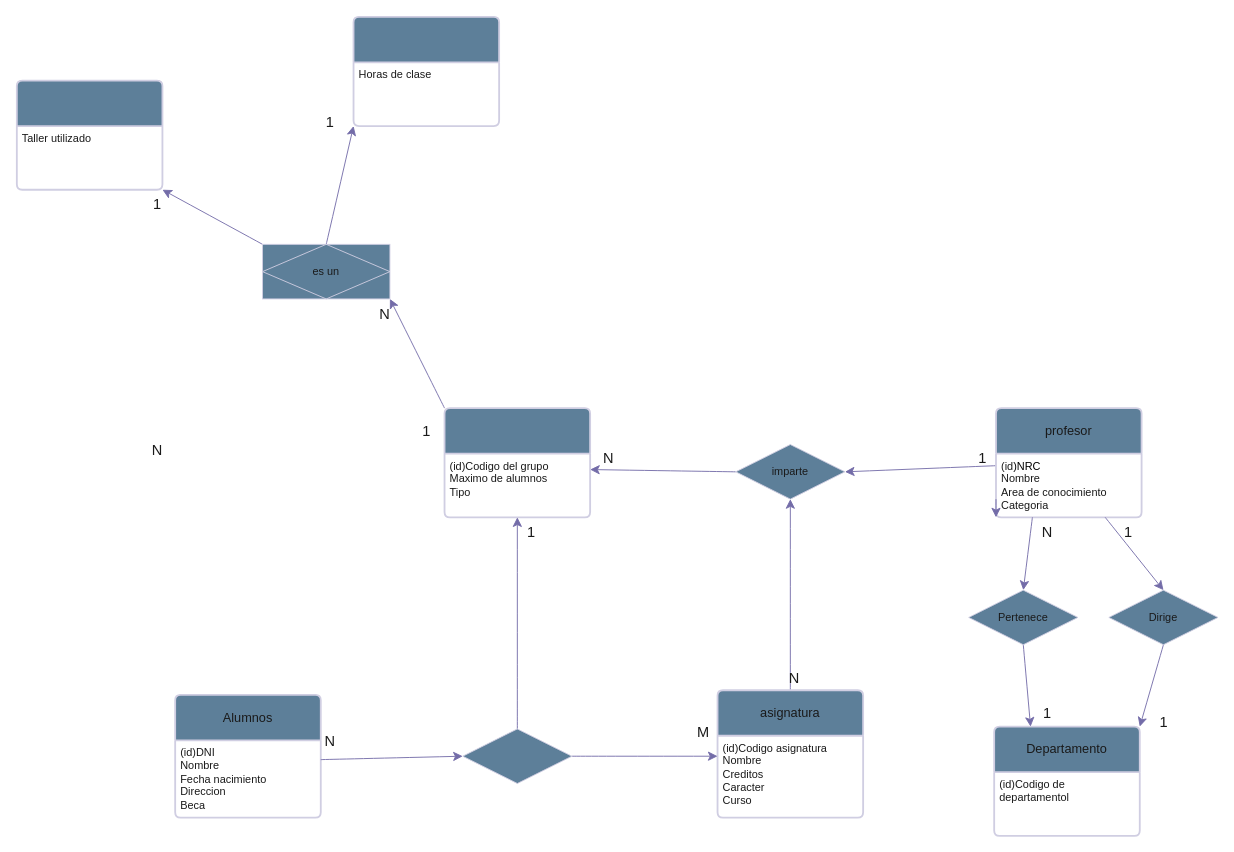
This 1234x852 diagram has some shape labels left out. The shapes that lost their labels are listed below. From the top down, each one's box as (x1, y1, x2, y2) in pixels, then its label:
(352, 15, 500, 126): Teoria
(15, 79, 163, 190): Practicas
(443, 407, 591, 518): grupos
(462, 728, 572, 784): Matriculan
